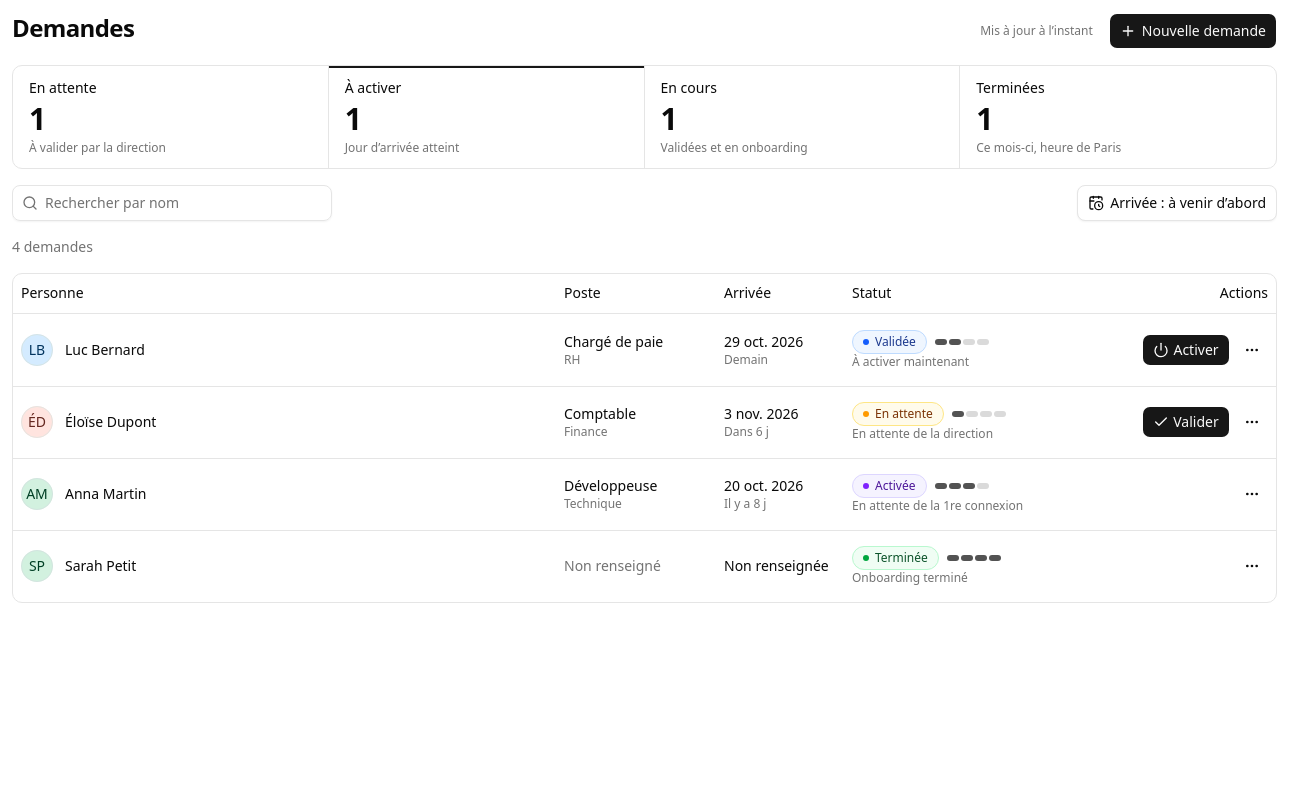
Test: compteurs et filtre › « Tout afficher » retire le filtre ; le filtre se combine avec la recherche
Expected: the link "Anna Martin" is shown, [65,484,146,504]
Expected: the button "Tout afficher" is not shown
Click the button "En cours 1 Validées et en onboarding" at (689, 88), box [644,66,960,168]
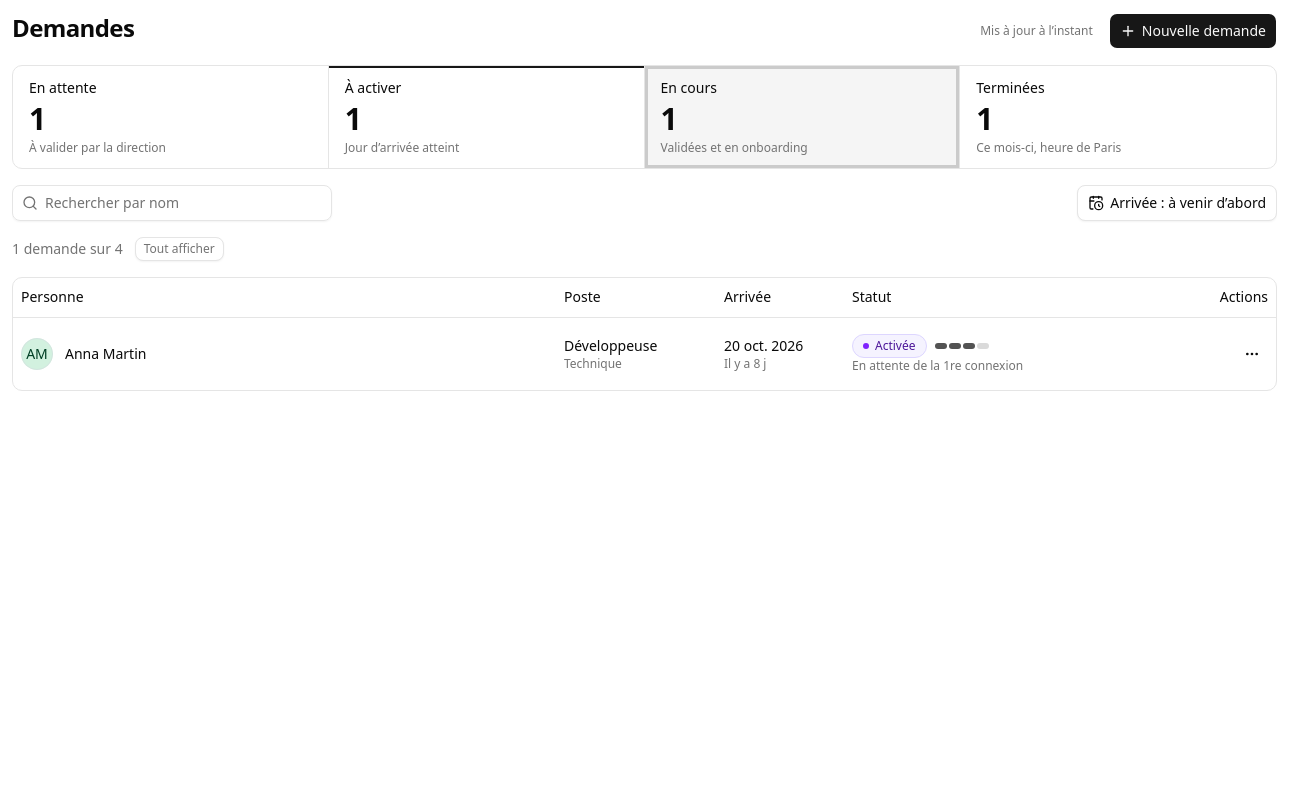
Type "martin" into the search field labelled "Rechercher par nom" at (172, 202), box [12,184,332,220]
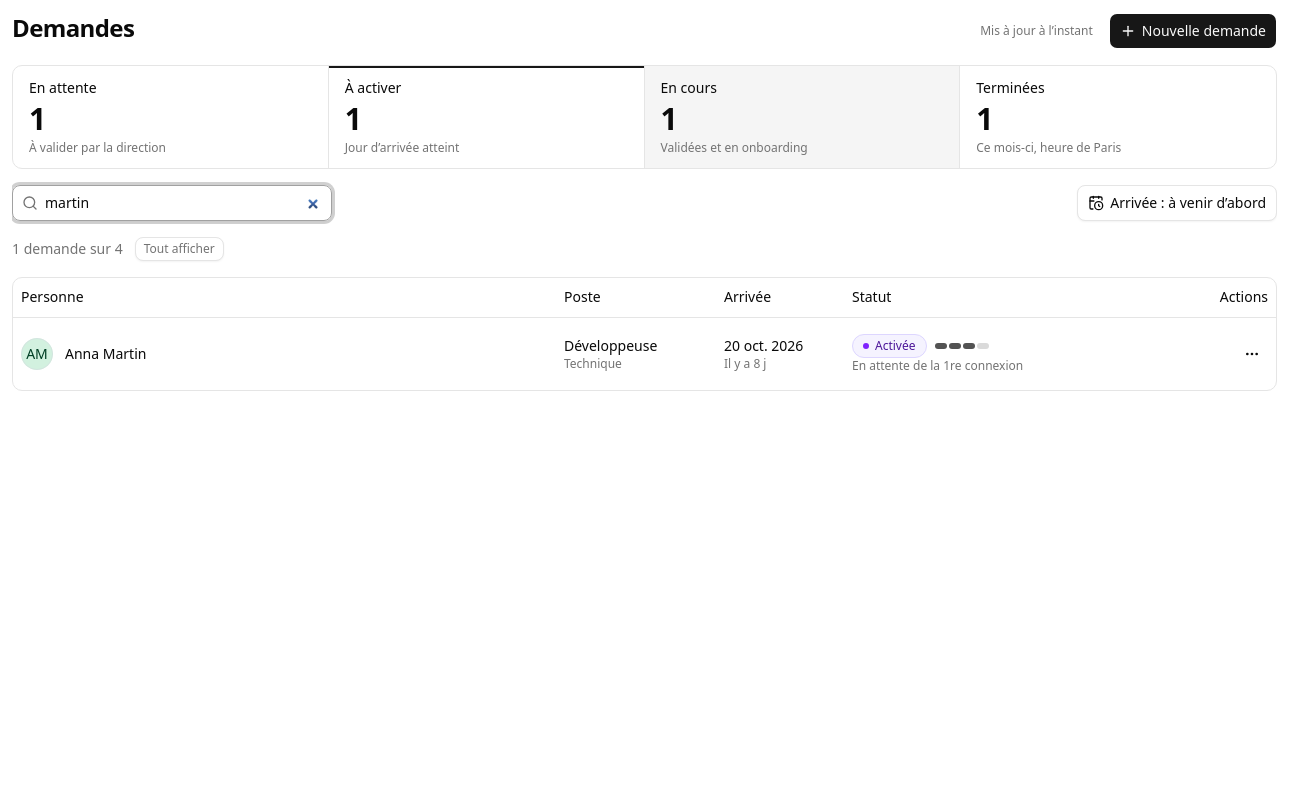
Replace the text in the search field named "Rechercher par nom" with "dupont" at (172, 202), box [12,184,332,220]
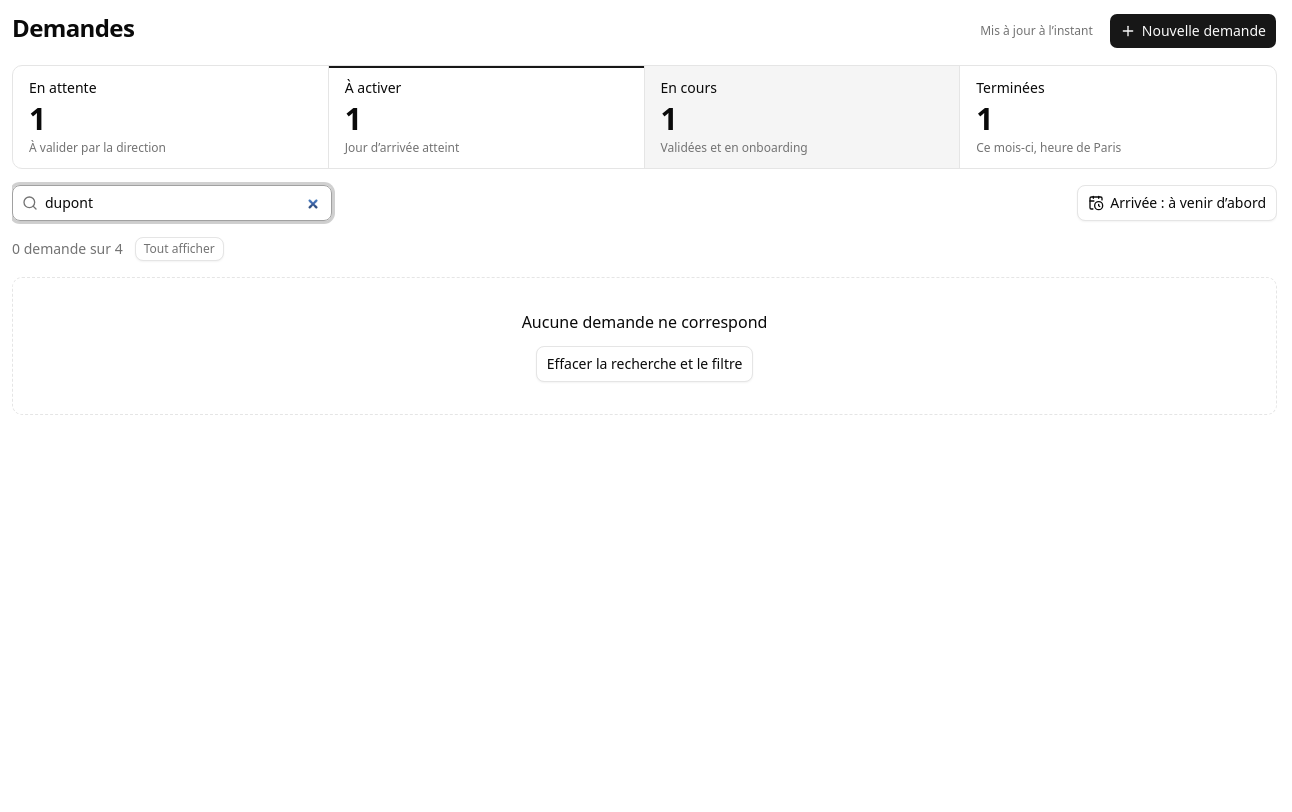
Result: the text "Aucune demande ne correspond" is shown at [522,310,767,332]
Clear the search field named "Rechercher par nom" at (172, 202), box [12,184,332,220]
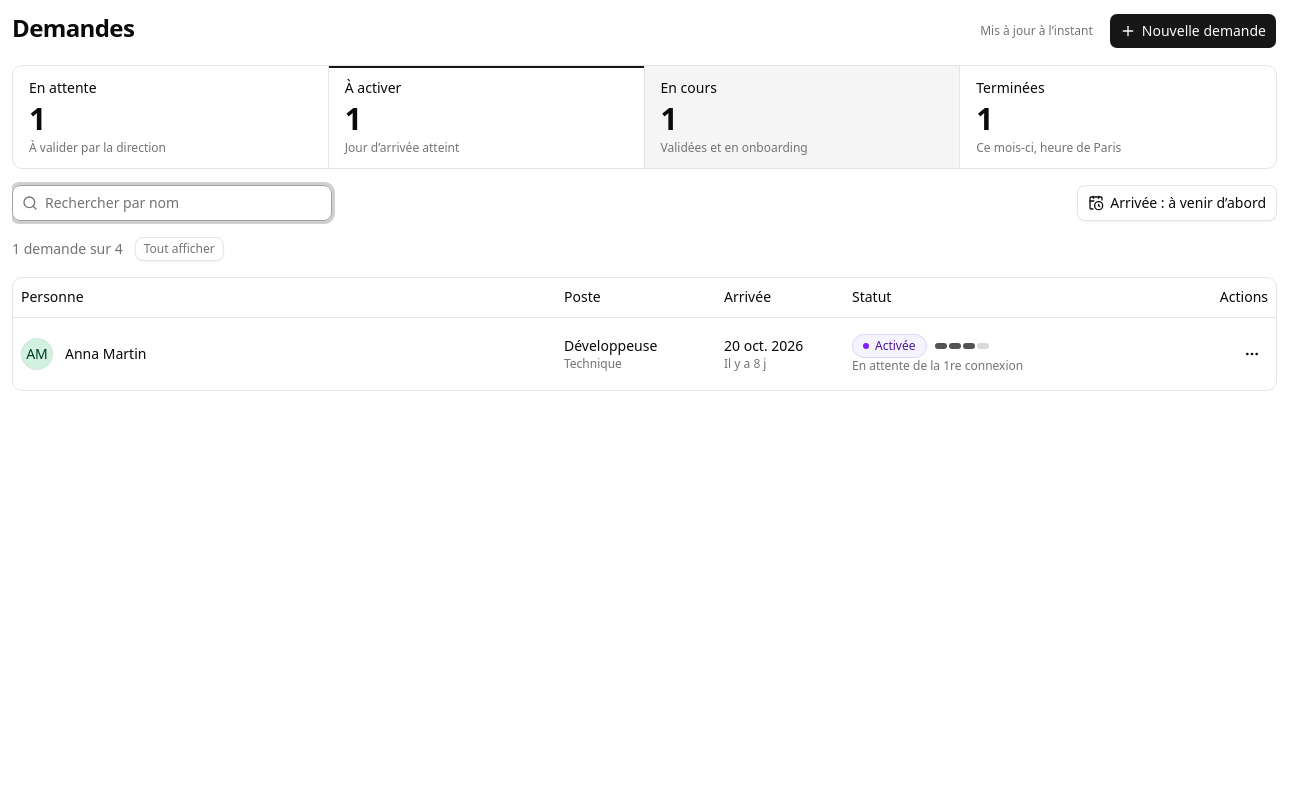
Click the button "Tout afficher" at (179, 248), box [135,236,224,260]
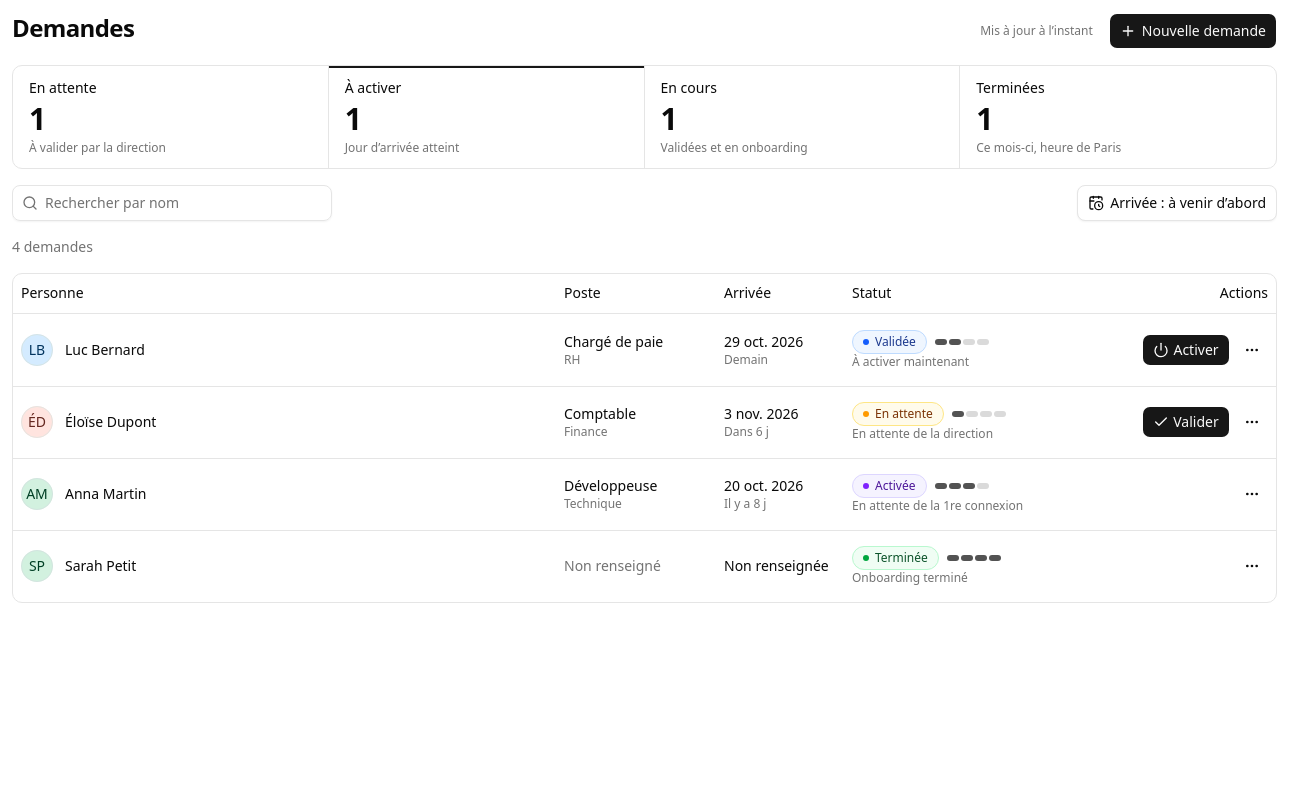
Result: the number of links is 4 at [65,340,145,360]; [65,412,156,432]; [65,484,146,504]; [65,556,136,576]
